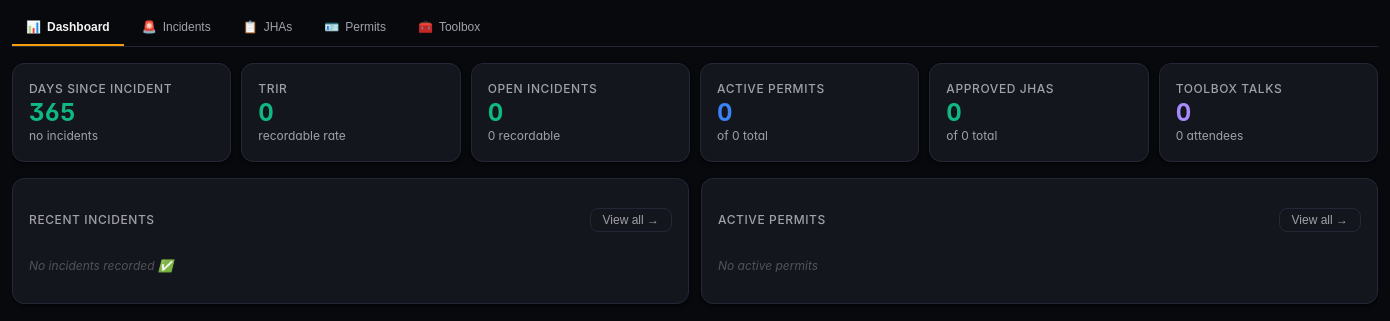
the incidents tab reads the API it was mounted beside › loads incidents for the selected project
Step 1. Click the tab "🚨 Incidents" → {"x": 176, "y": 29}, box [128,12,225,46]
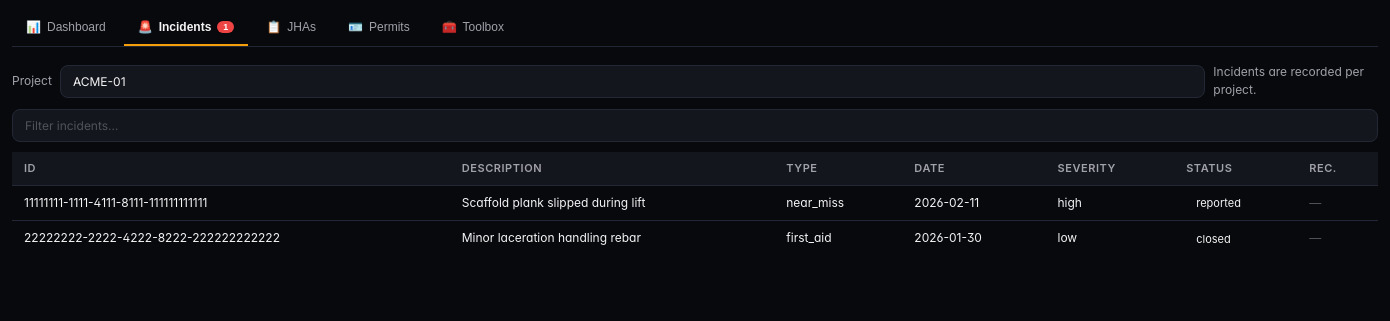
Expected: the text "Scaffold plank slipped during lift" is shown, [450,185,774,220]
Expected: the text "Minor laceration handling rebar" is shown, [450,220,774,255]
